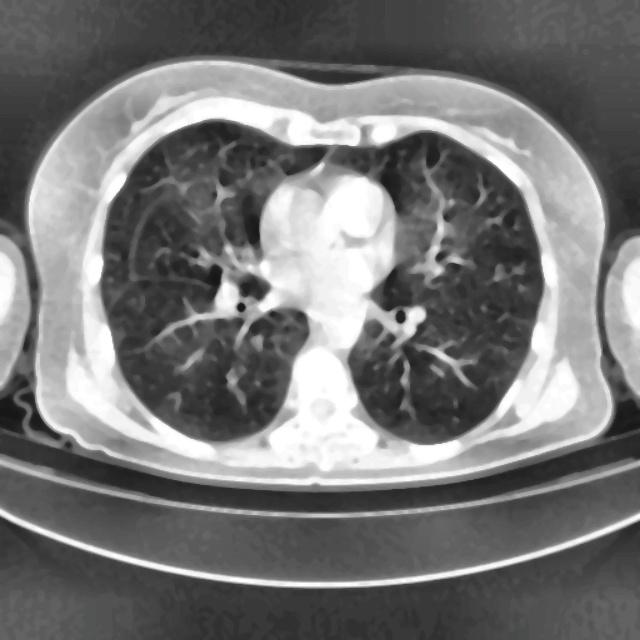covid: (23, 57, 614, 490)
